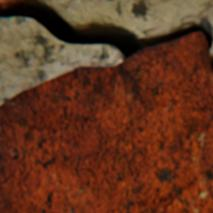brick: (0, 33, 212, 212), (0, 0, 25, 9)
crack: (0, 0, 212, 59), (211, 59, 212, 71)
